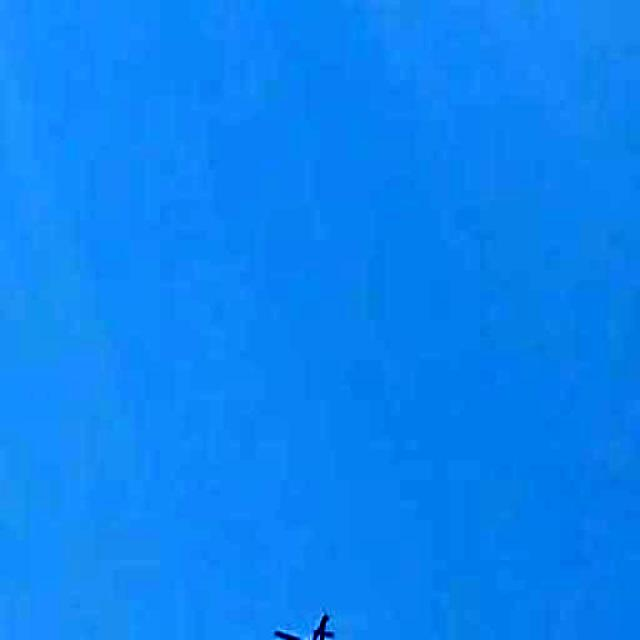drone: (265, 599, 369, 640)
